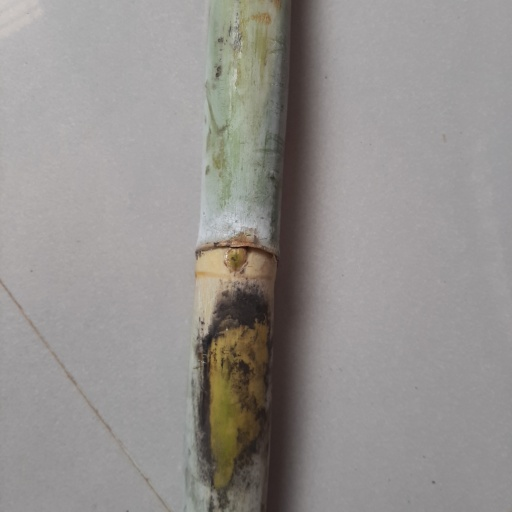Bud: (224, 245, 250, 276)
